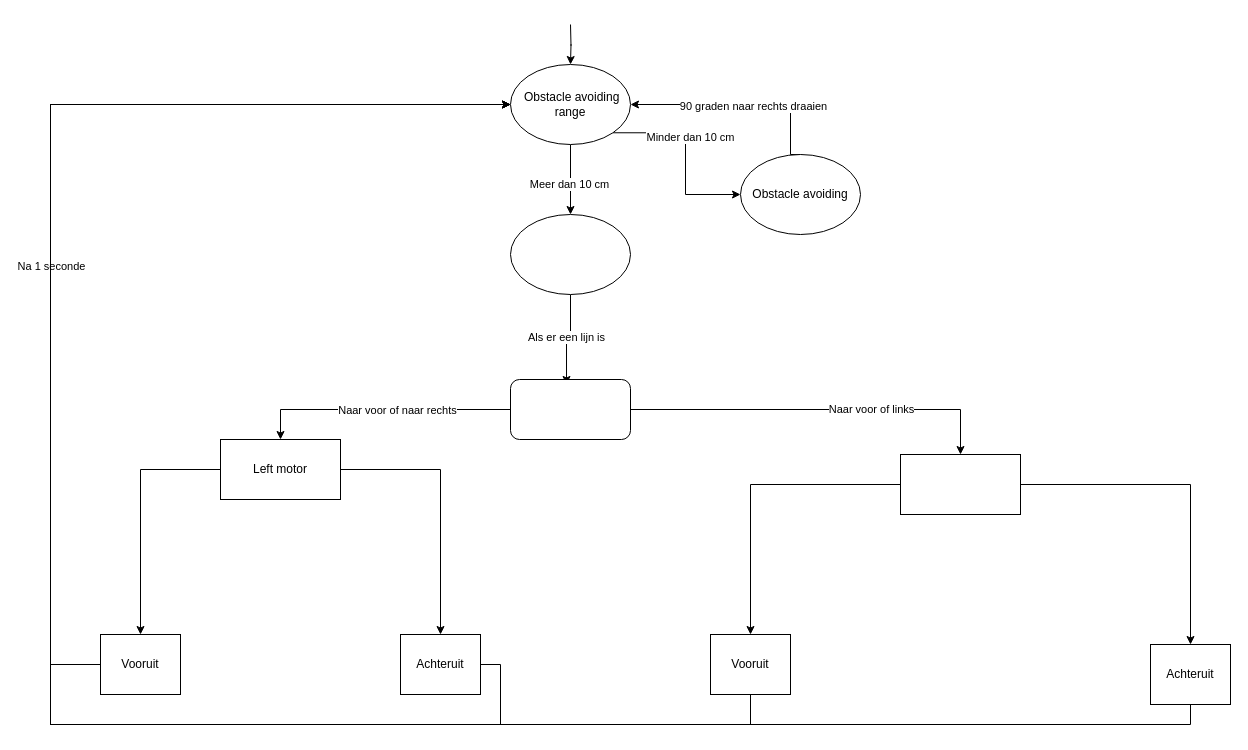
Image size: 1248x750. Some labels were removed from this diagram. The centre of each missing label's shape, as x and y in pixels:
"8. Motor driver" goes at (x=570, y=409).
"Line tracking" goes at (x=570, y=254).
"Right motor" goes at (x=960, y=484).
